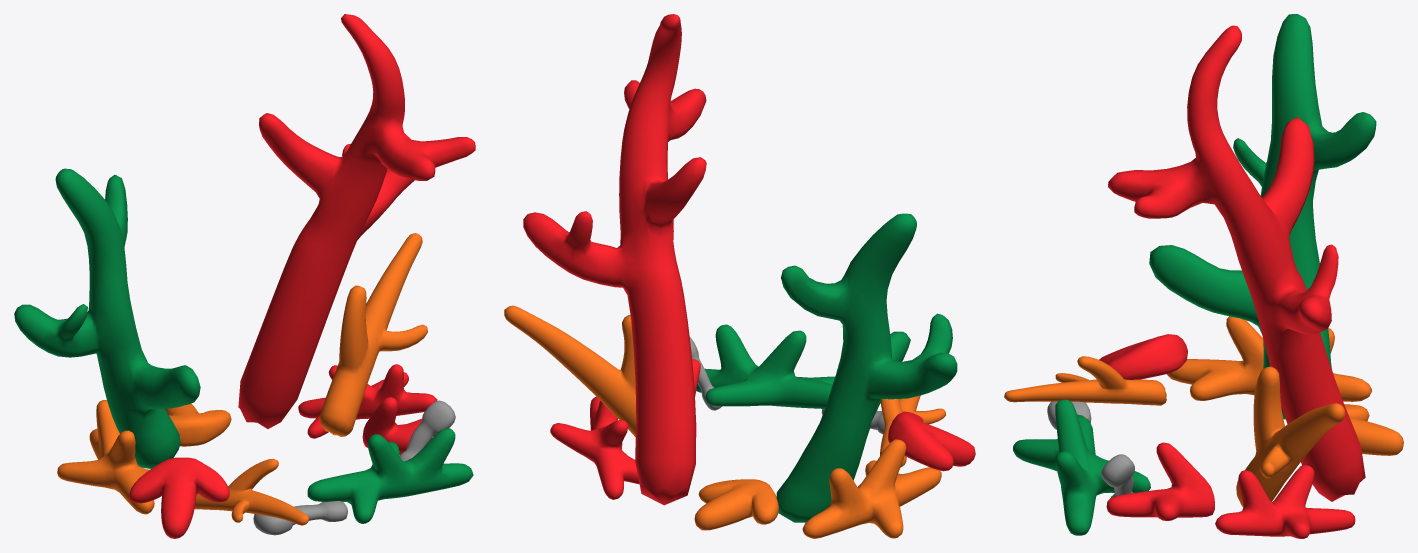
The model's file is I C Fort (3).FBX.
3 views of the same model, side by side, from view 1: azimuth 30°, elevation 25°; view 2: azimuth 150°, elevation 25°; view 3: azimuth 270°, elevation 25° (orthographic). The views are drawn at different scales.
Parts seen in each view (by area): view 1: Cylinder002; view 2: Cylinder002; view 3: Cylinder002.
Part boxes in pixels (left/top/right/bottom): Cylinder002: left=14, top=14, right=475, bottom=538; Cylinder002: left=504, top=14, right=975, bottom=538; Cylinder002: left=1004, top=14, right=1403, bottom=538.
Bounding box in the file's own units: 107 × 106 × 77.42.
